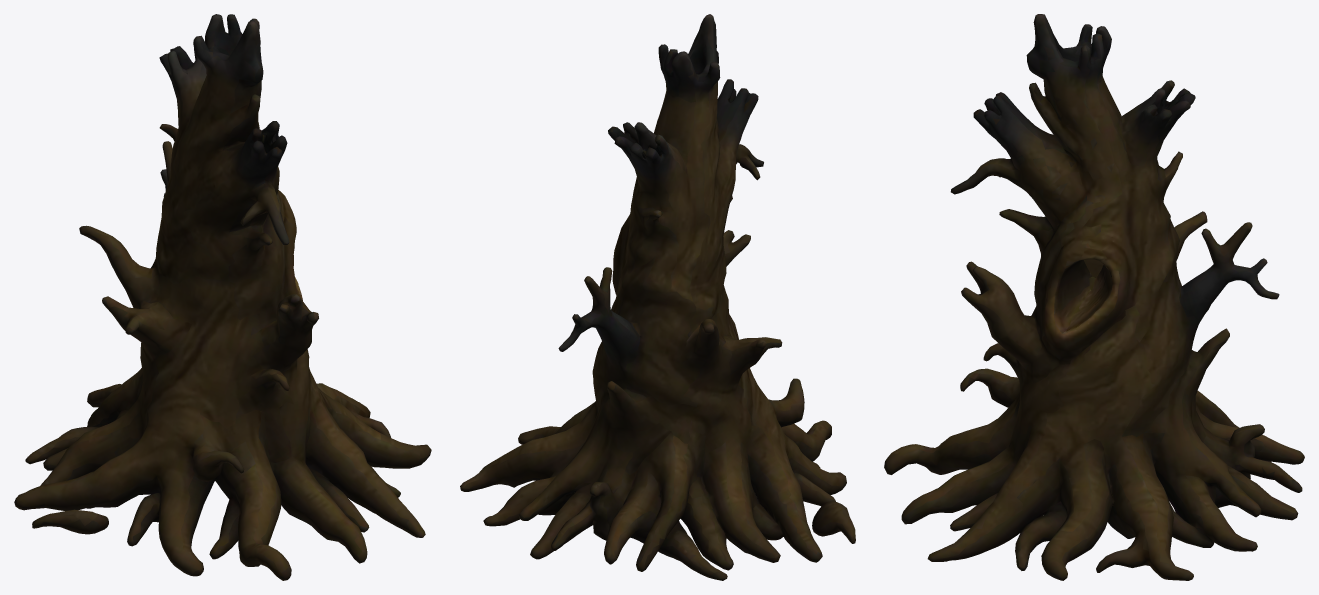
File: TRE1A0.obj
3 views of the same model, side by side, from view 1: azimuth 30°, elevation 25°; view 2: azimuth 150°, elevation 25°; view 3: azimuth 270°, elevation 25° (orthographic). The views are drawn at different scales.
Size of the model in its own units: 0.783 by 1 by 0.7745.
Materials: 1 (1 with a texture image).
